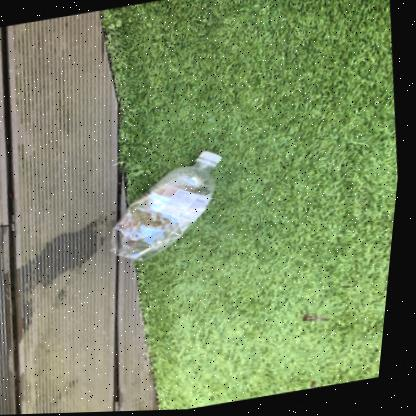Plastic: (117, 152, 224, 261)
